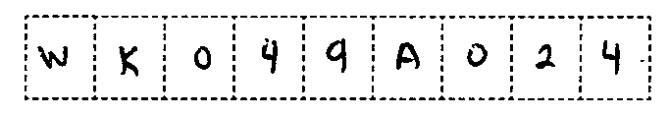0: (186, 41, 218, 74), (462, 38, 491, 70)
2: (528, 37, 564, 76)
4: (594, 36, 626, 77), (258, 34, 285, 77)
9: (323, 35, 354, 78)
A: (390, 34, 424, 83)
K: (113, 42, 146, 83)
W: (34, 40, 76, 72)
